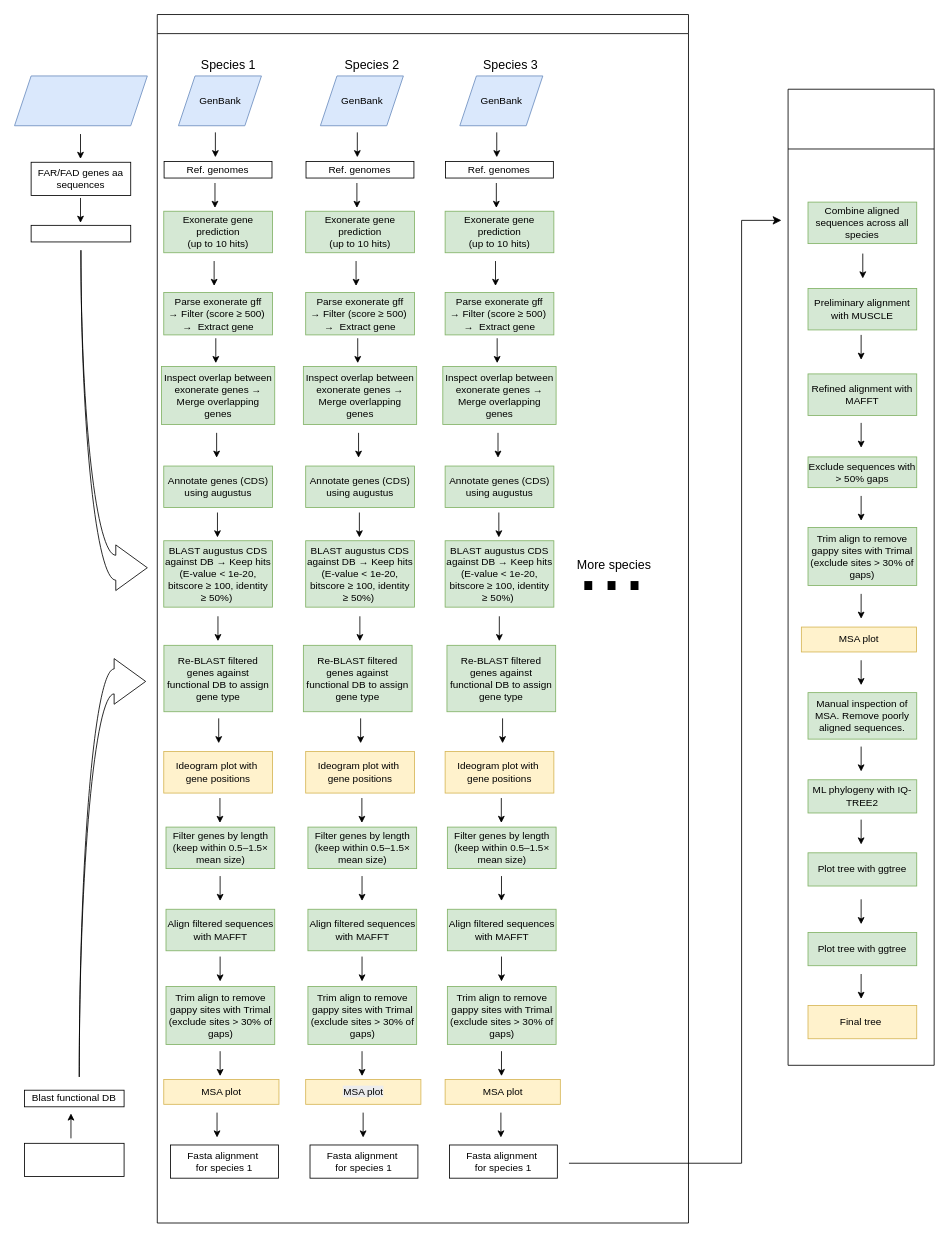
This 949x1238 diagram has some shape labels left out. The shapes that lost their labels are listed below. From the top down, each one's box as (x1, y1, x2, y2) in pixels, then its label:
(14, 75, 147, 126): FAR and FAD lep genes from Uniprot and GenBank
(30, 225, 131, 242): Blast DB
(787, 88, 934, 1065): Step 2: Merge alignments across species and infer ML phylogeny
(156, 14, 688, 1223): Step 1: Identify FAR/FAD genes in each species
(24, 1142, 124, 1177): FAR/FAD genes from Liénard et al. 2014
